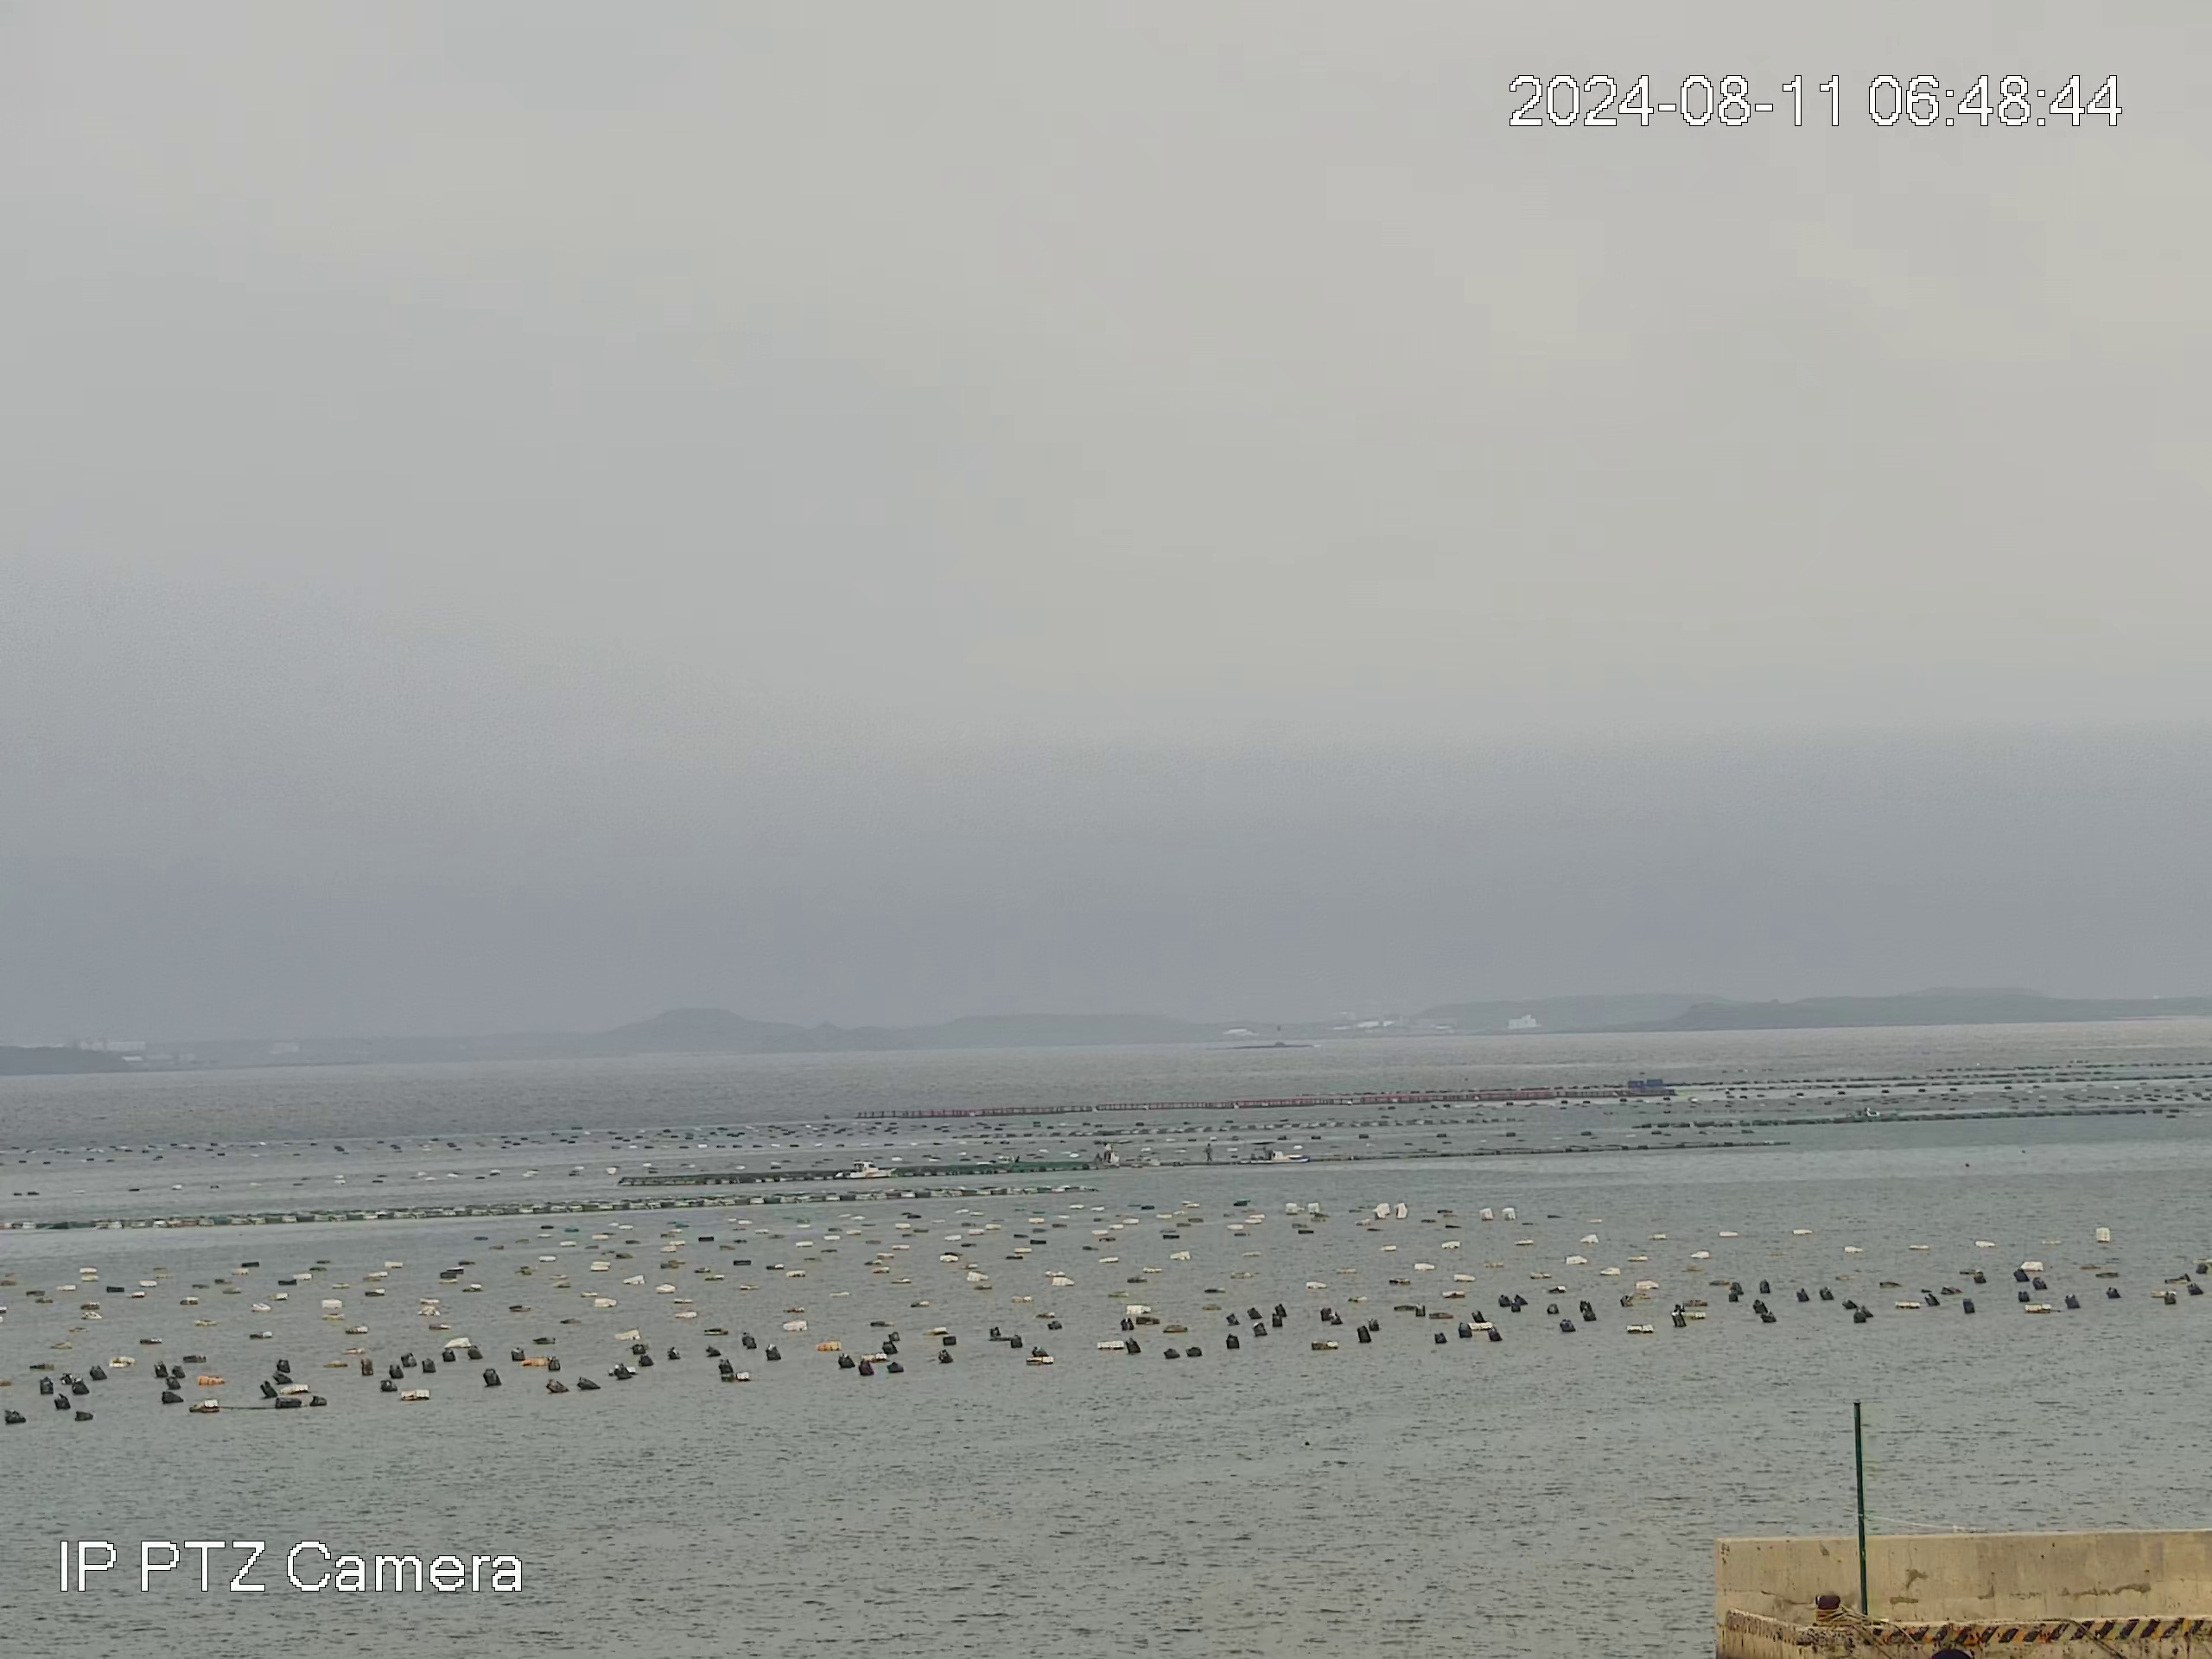boat: (833, 1161, 894, 1180), (1237, 1148, 1294, 1164)
